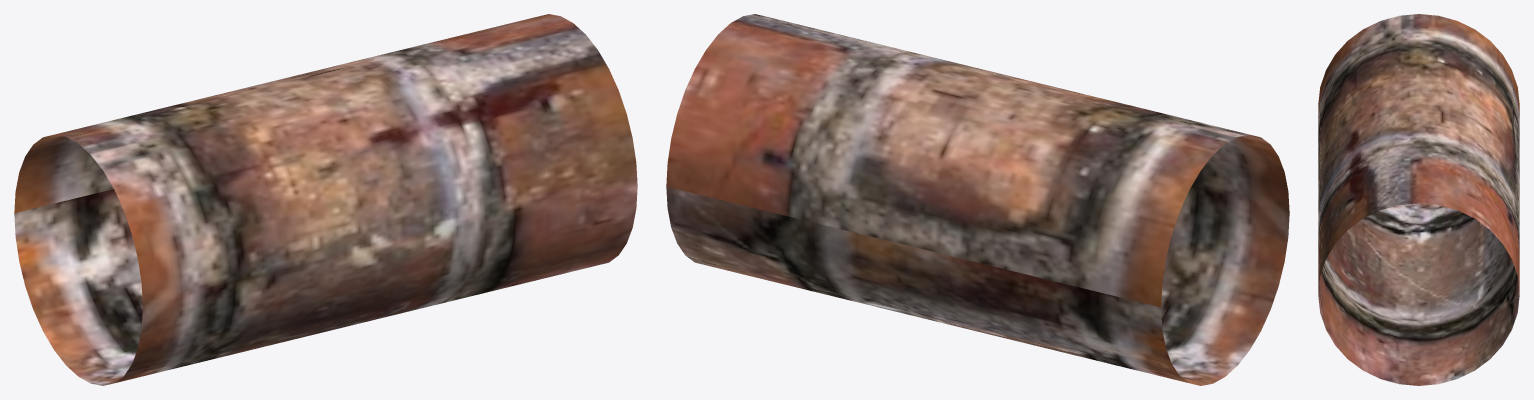
File: Short_Straight_Sewer_01 1.fbx
3 views of the same model, side by side, from view 1: azimuth 30°, elevation 25°; view 2: azimuth 150°, elevation 25°; view 3: azimuth 270°, elevation 25° (orthographic). The views are drawn at different scales.
Visible parts, largest first — view 1: Cylinder; view 2: Cylinder; view 3: Cylinder.
Part boxes in pixels (box(x1,y1,x2,y2)): Cylinder: box(14, 14, 637, 385); Cylinder: box(666, 14, 1289, 385); Cylinder: box(1318, 14, 1519, 385).
Size of the model in its own units: 2000 by 900 by 900.
